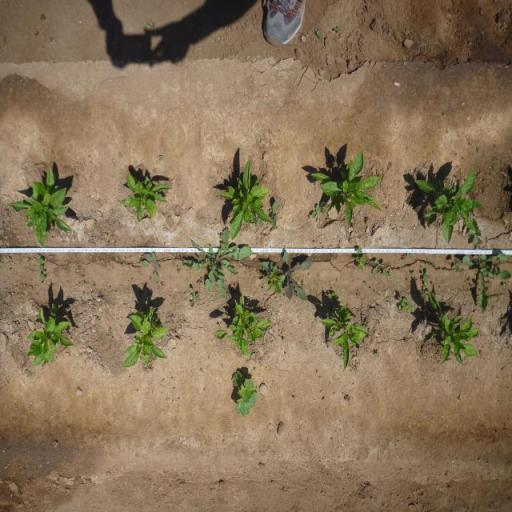plant: (309, 146, 385, 233), (411, 170, 487, 248), (6, 165, 75, 247), (214, 156, 272, 240), (424, 294, 482, 366), (213, 292, 273, 357), (317, 303, 372, 373), (25, 300, 75, 368), (120, 305, 170, 367), (118, 169, 172, 225)
weed: (179, 226, 255, 301), (461, 229, 512, 315), (258, 250, 313, 306), (229, 368, 260, 418), (140, 251, 162, 283), (262, 268, 284, 296), (369, 256, 389, 278), (268, 199, 280, 229), (310, 199, 327, 220), (37, 257, 47, 287), (354, 247, 366, 271), (397, 295, 413, 313), (188, 287, 200, 308), (450, 256, 463, 274), (398, 252, 414, 262), (420, 268, 431, 282), (326, 289, 339, 300), (315, 28, 323, 43), (106, 324, 114, 338), (145, 18, 156, 28), (195, 276, 203, 286), (333, 24, 341, 34), (502, 280, 510, 288), (92, 219, 98, 229), (158, 153, 164, 162), (374, 350, 380, 359), (422, 282, 428, 290), (410, 268, 416, 276), (40, 12, 46, 20), (175, 264, 180, 273), (404, 336, 409, 345), (68, 261, 73, 268), (413, 277, 418, 284), (356, 290, 360, 298), (160, 281, 164, 286)
